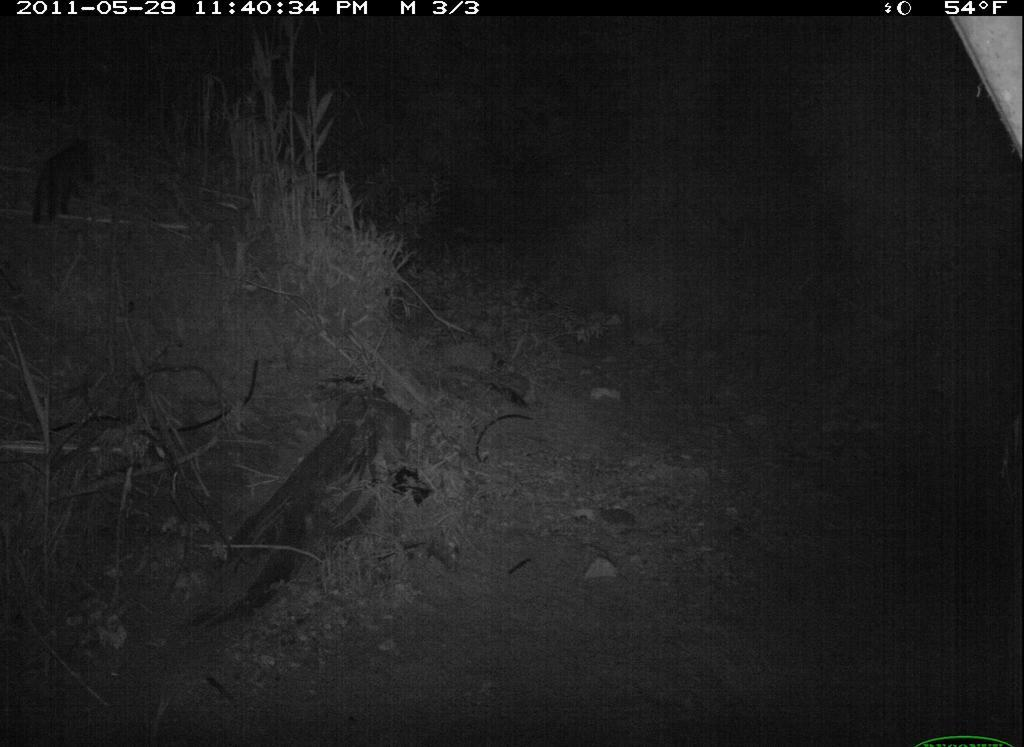cat: (25, 125, 111, 233)
